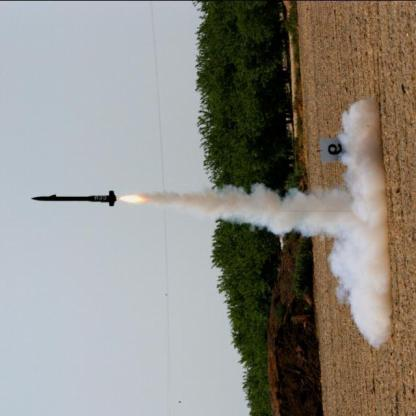MIL_TBM: (30, 190, 118, 207)
